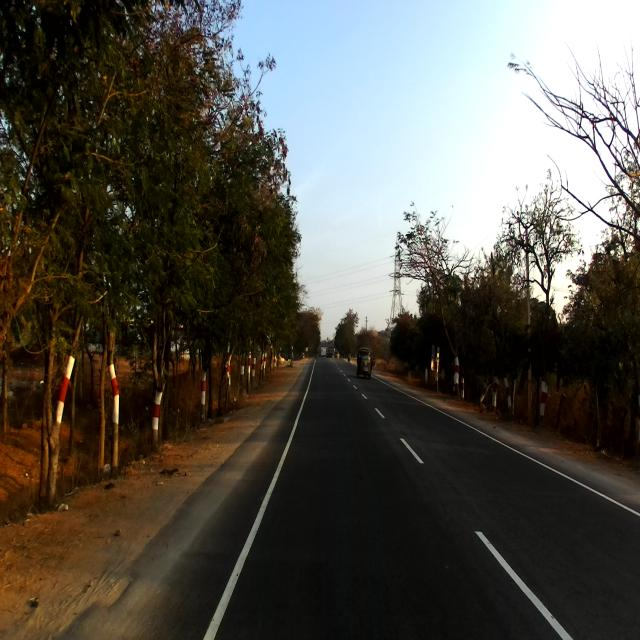tree ahead at: (34, 325, 74, 502), (96, 338, 126, 479), (144, 348, 168, 448)
